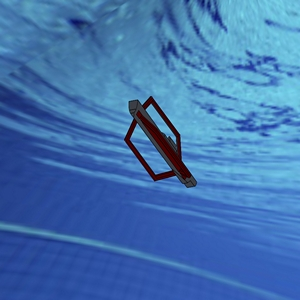submarine: (108, 83, 204, 201)
